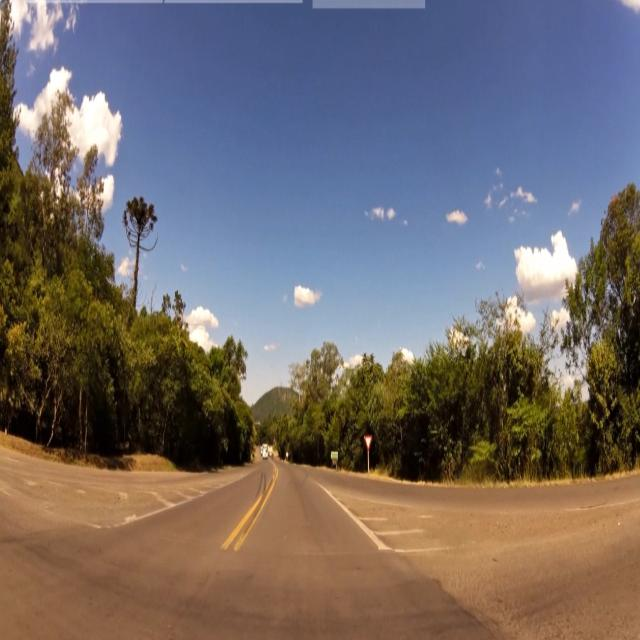R-2: (363, 432, 372, 452)
